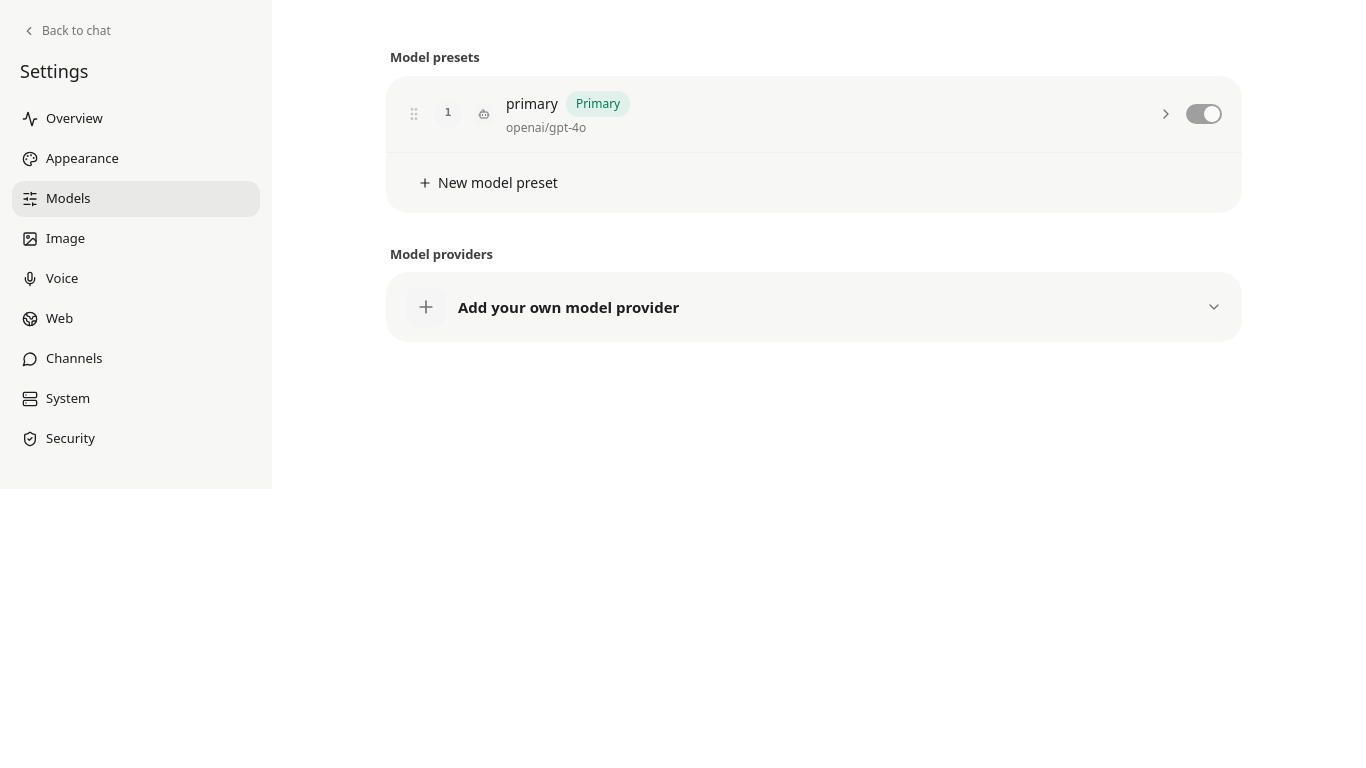
Test: Settings models › renames an existing preset without losing the editor selection
Click the button "1 primary Primary openai/gpt-4o": (532, 104) [434, 90, 1174, 136]
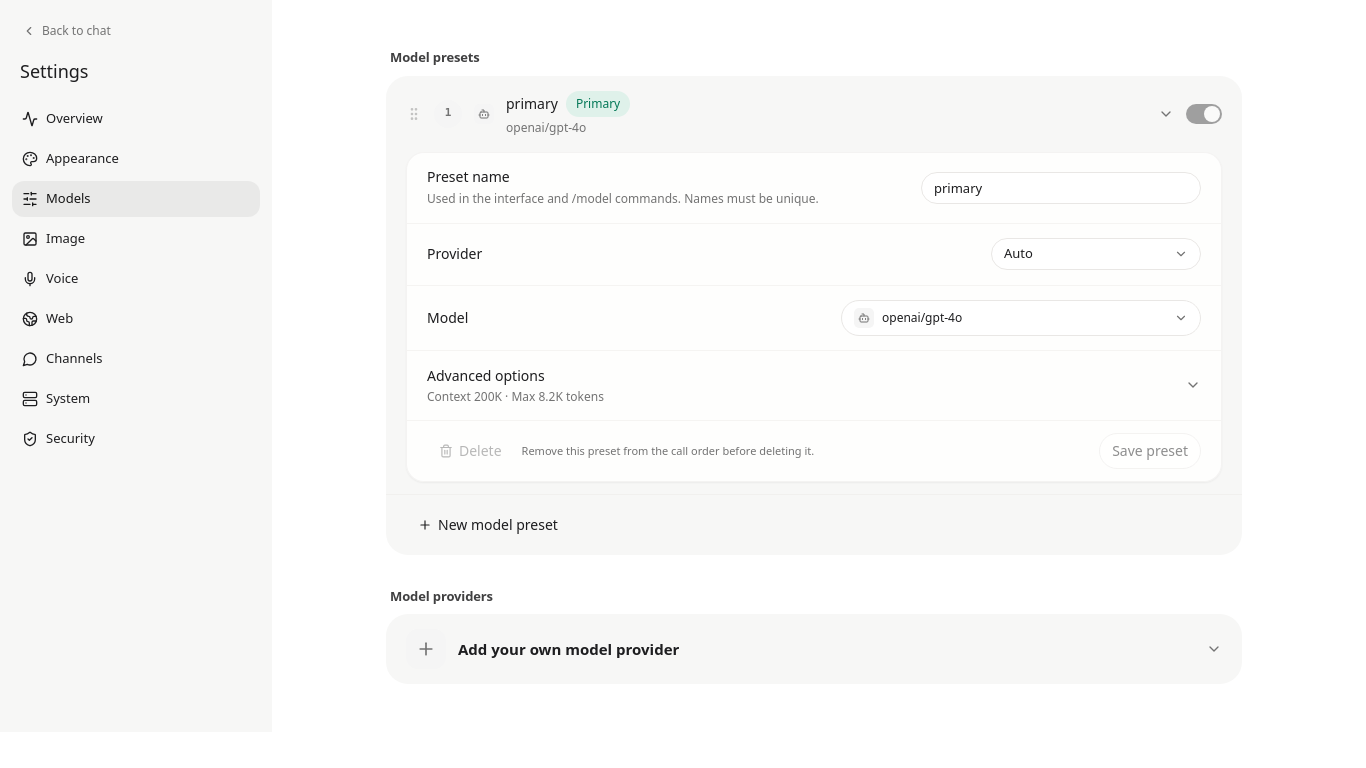
Replace the text in the field named "Preset name" with "Codex": (1061, 188) [921, 172, 1201, 204]
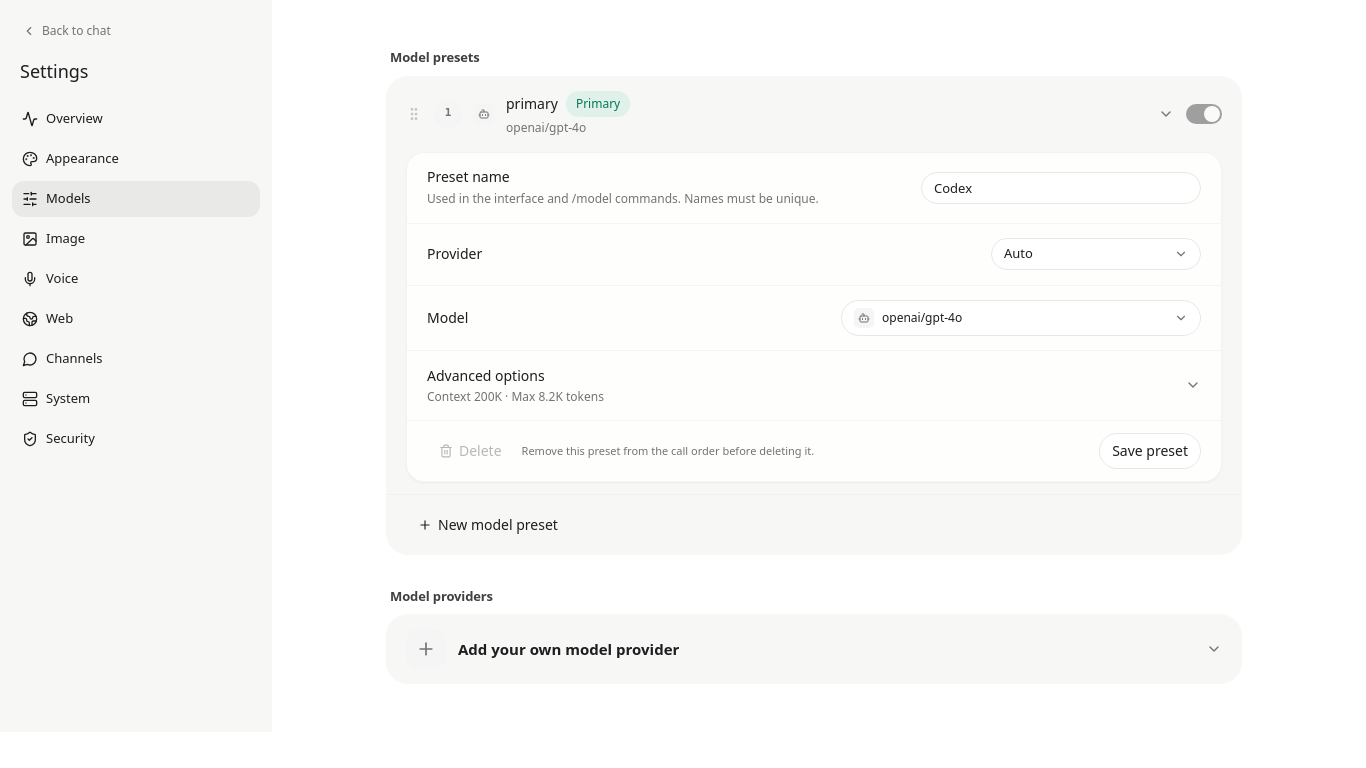
Click the button "Save preset": (1150, 450) [1099, 432, 1201, 468]
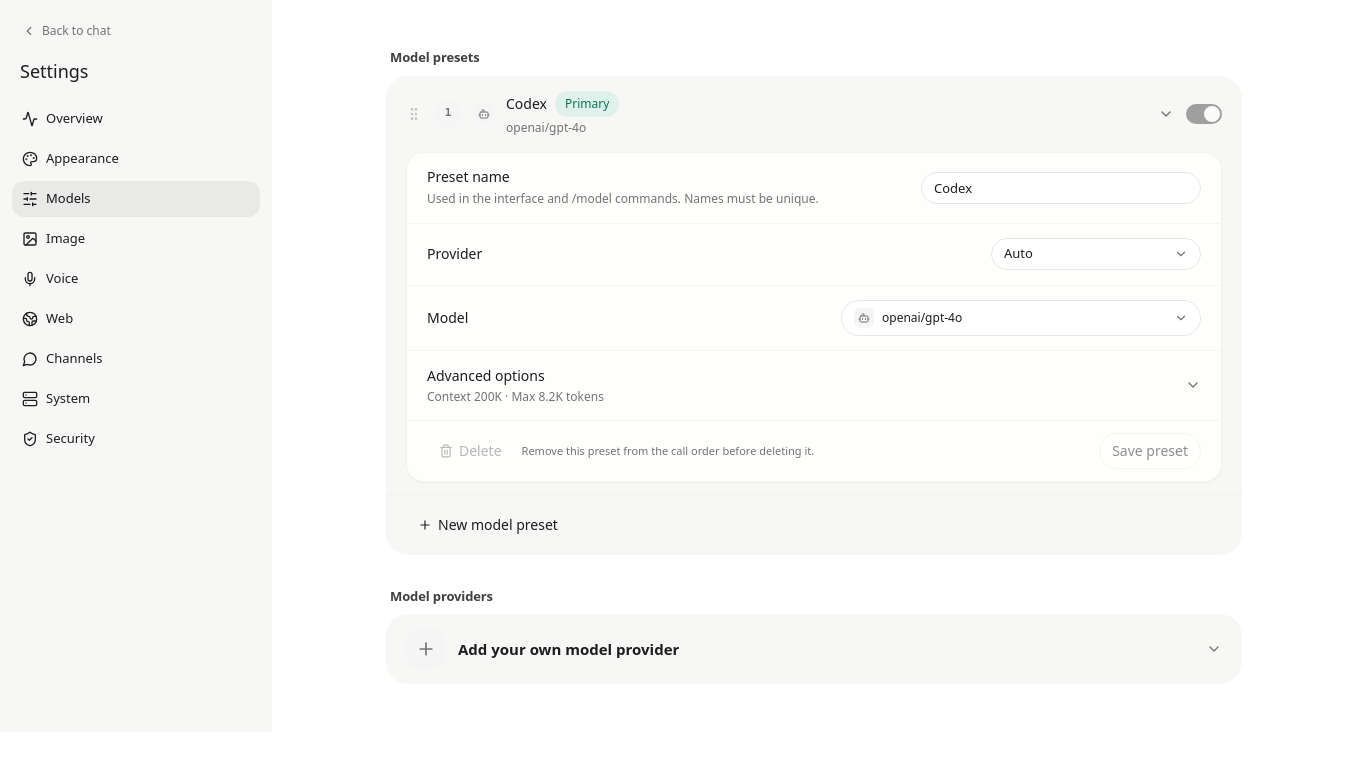
Expected: the field named "Preset name" holds "Codex", [921, 172, 1201, 204]
Expected: the element with test id "model-call-order-row-Codex" is shown, [386, 76, 1242, 152]
